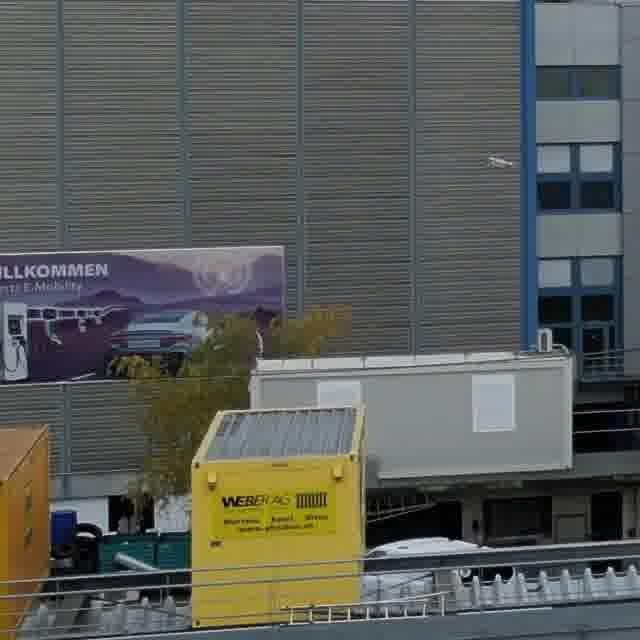Drohne: (488, 156, 513, 166)
